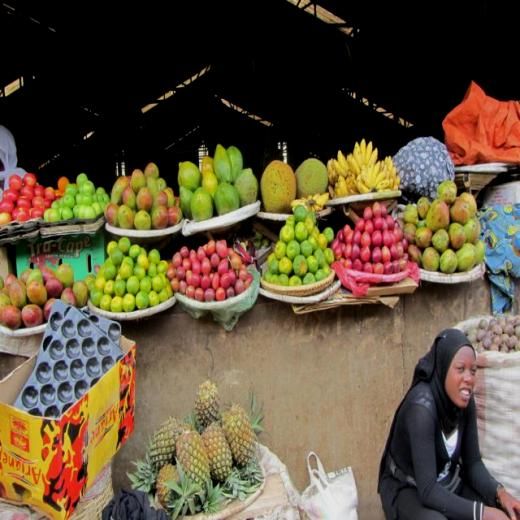Mango: (123, 373, 277, 520)
